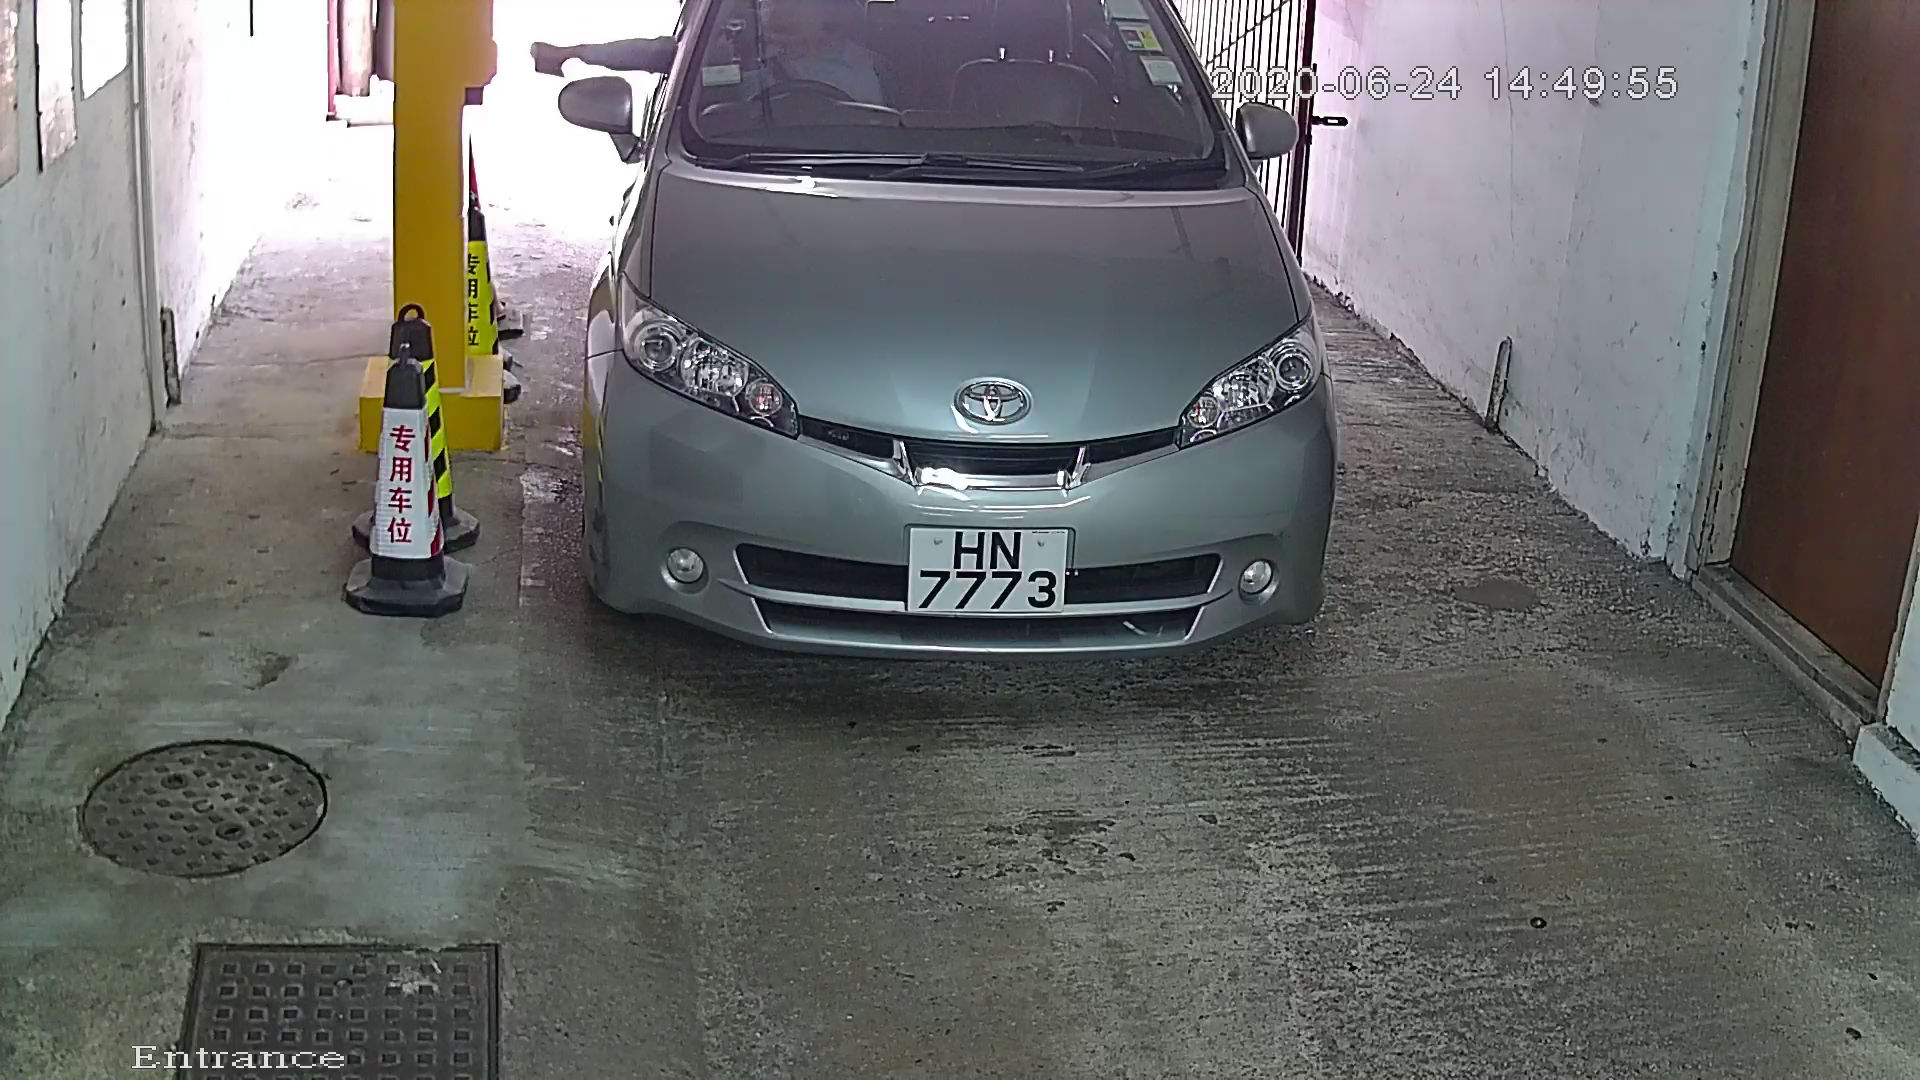Car: (514, 1, 1398, 736)
License Plate: (895, 515, 1082, 633)
